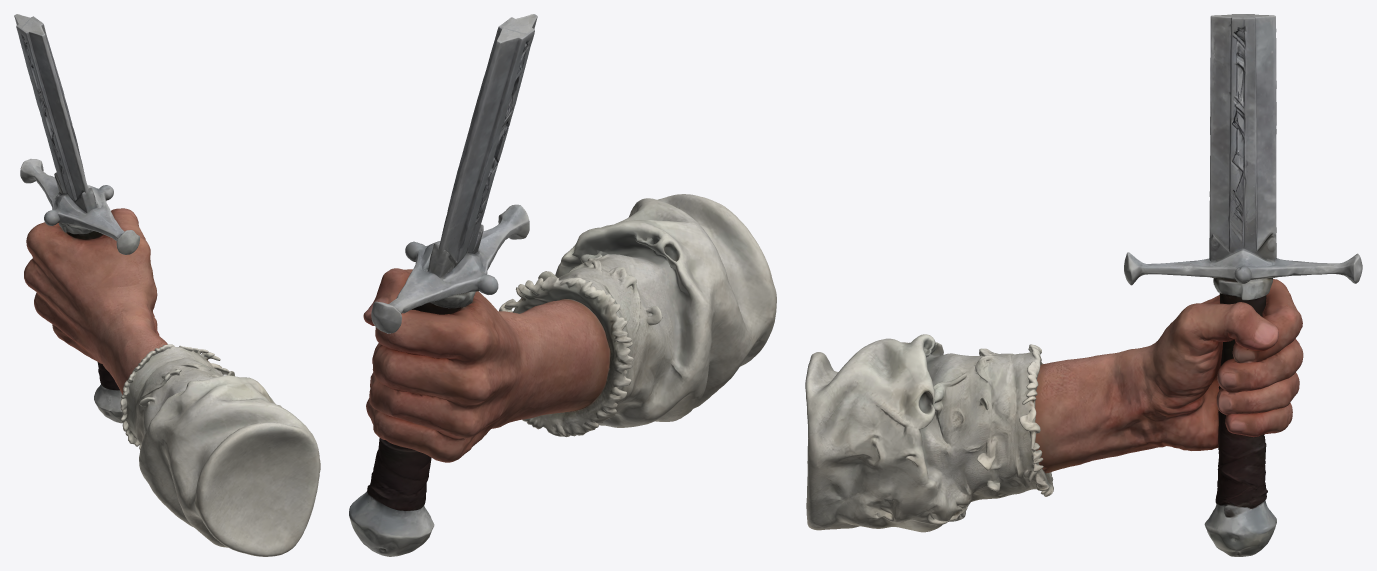
3 renders of one model, left to right at view 1: azimuth 30°, elevation 25°; view 2: azimuth 150°, elevation 25°; view 3: azimuth 270°, elevation 25°, orthographic. The views are drawn at different scales.
Parts seen in each view (by area): view 1: tripo_node_71d649a7-779f-419f-b5f9-1caa9005ffe6; view 2: tripo_node_71d649a7-779f-419f-b5f9-1caa9005ffe6; view 3: tripo_node_71d649a7-779f-419f-b5f9-1caa9005ffe6.
Boxes of the visible parts, bbox=[...] form: tripo_node_71d649a7-779f-419f-b5f9-1caa9005ffe6: bbox=[14, 14, 320, 556]; tripo_node_71d649a7-779f-419f-b5f9-1caa9005ffe6: bbox=[349, 14, 776, 556]; tripo_node_71d649a7-779f-419f-b5f9-1caa9005ffe6: bbox=[805, 14, 1362, 556].
Size of the model in its own units: 0.33 by 0.9647 by 1.
1 material, 1 textured.
